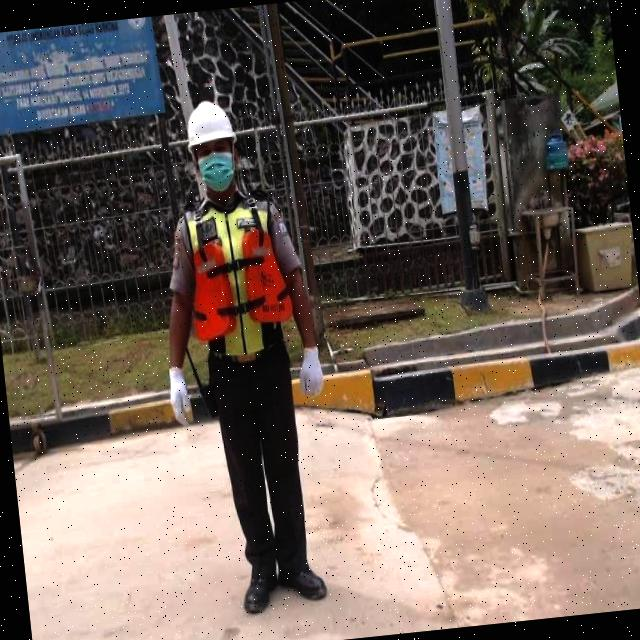boots: (238, 556, 283, 622), (276, 556, 330, 606)
helmet: (172, 82, 247, 158)
vest: (178, 188, 301, 361)
